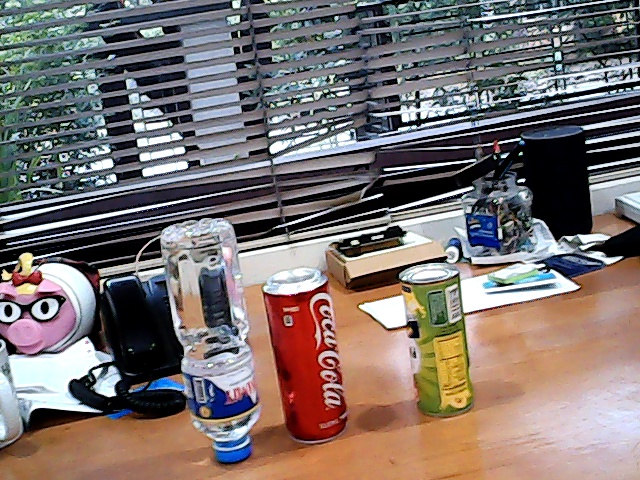Cola: (251, 256, 365, 452)
Pine Juice: (388, 257, 493, 430)
Summit Water: (144, 210, 267, 476)
